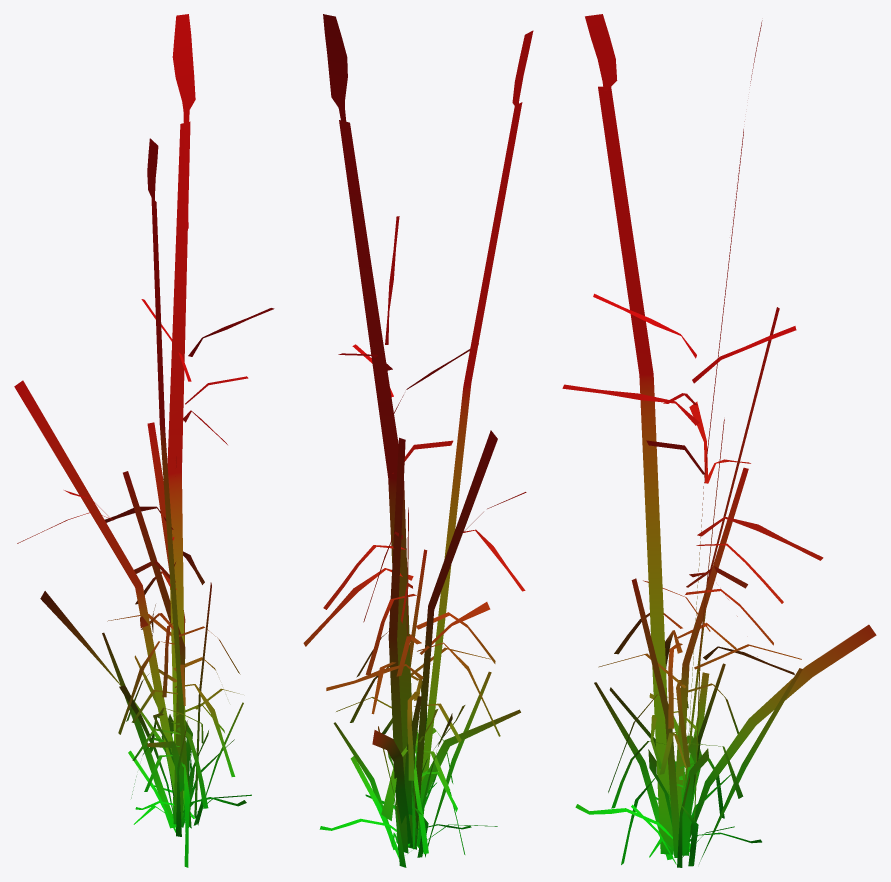
Rendered from Var4_LOD2.fbx.
3 renders of one model, left to right at view 1: azimuth 30°, elevation 25°; view 2: azimuth 150°, elevation 25°; view 3: azimuth 270°, elevation 25°, orthographic. The views are drawn at different scales.
Visible parts, largest first — view 1: _7f4c_Var4_LOD2; view 2: _7f4c_Var4_LOD2; view 3: _7f4c_Var4_LOD2.
Part boxes in pixels (x1,y1,x2,y2): _7f4c_Var4_LOD2: (14, 14, 274, 867); _7f4c_Var4_LOD2: (303, 14, 533, 867); _7f4c_Var4_LOD2: (562, 14, 876, 867).
Size of the model in its own units: 29.44 by 111 by 36.11.
